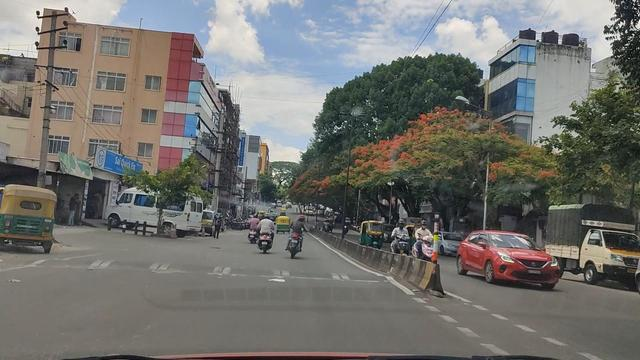LMV: (0, 186, 60, 255)
SpeedBump: (36, 256, 396, 283)
